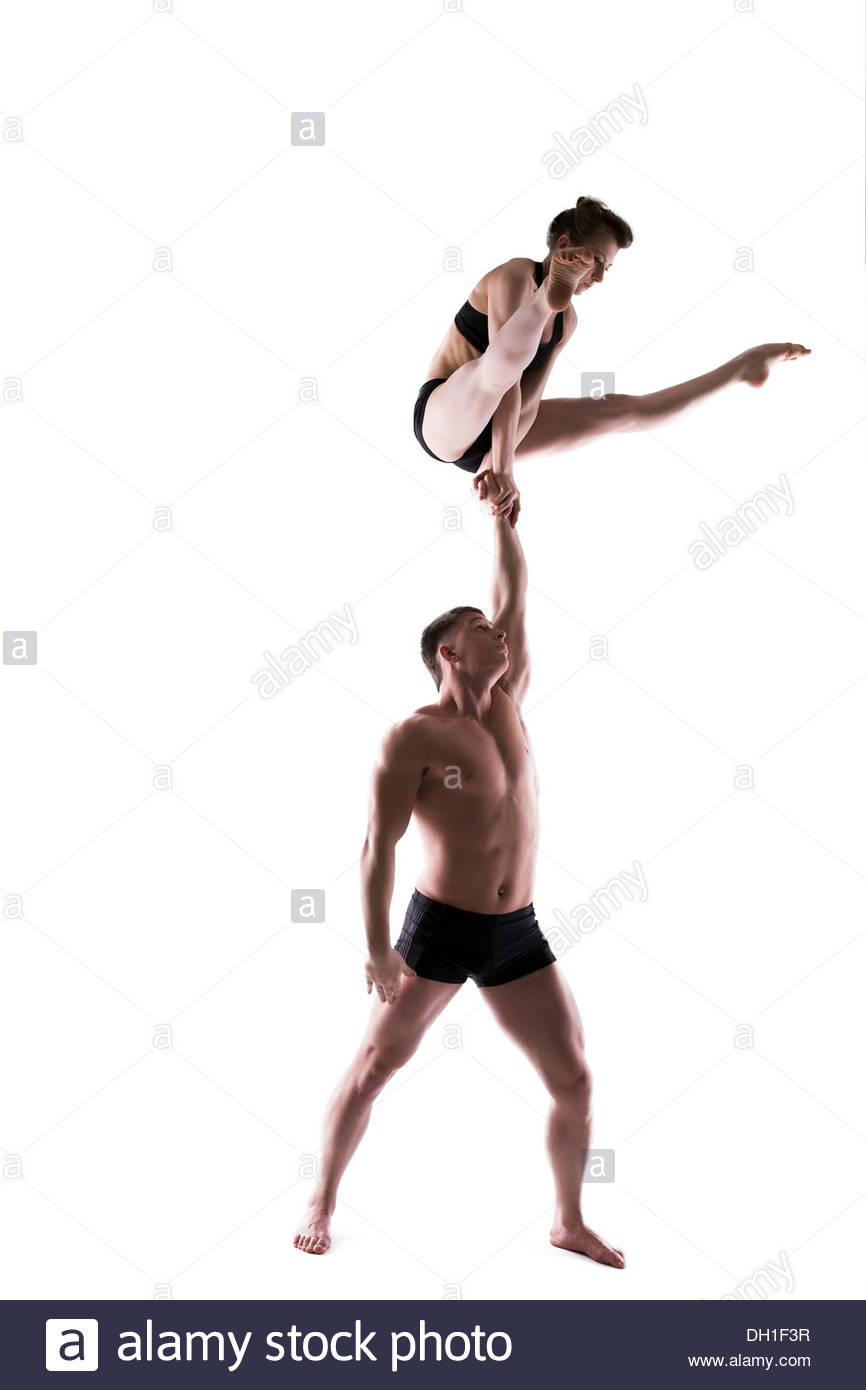person: (353, 583, 611, 887)
